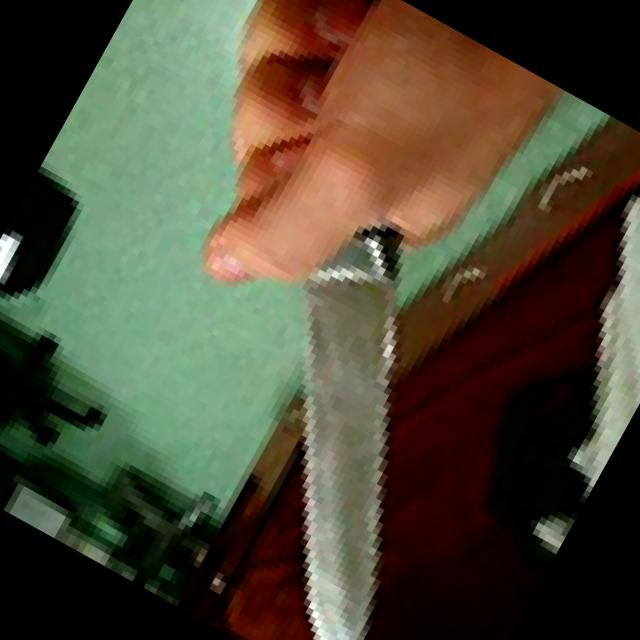knife: (81, 166, 580, 640)
